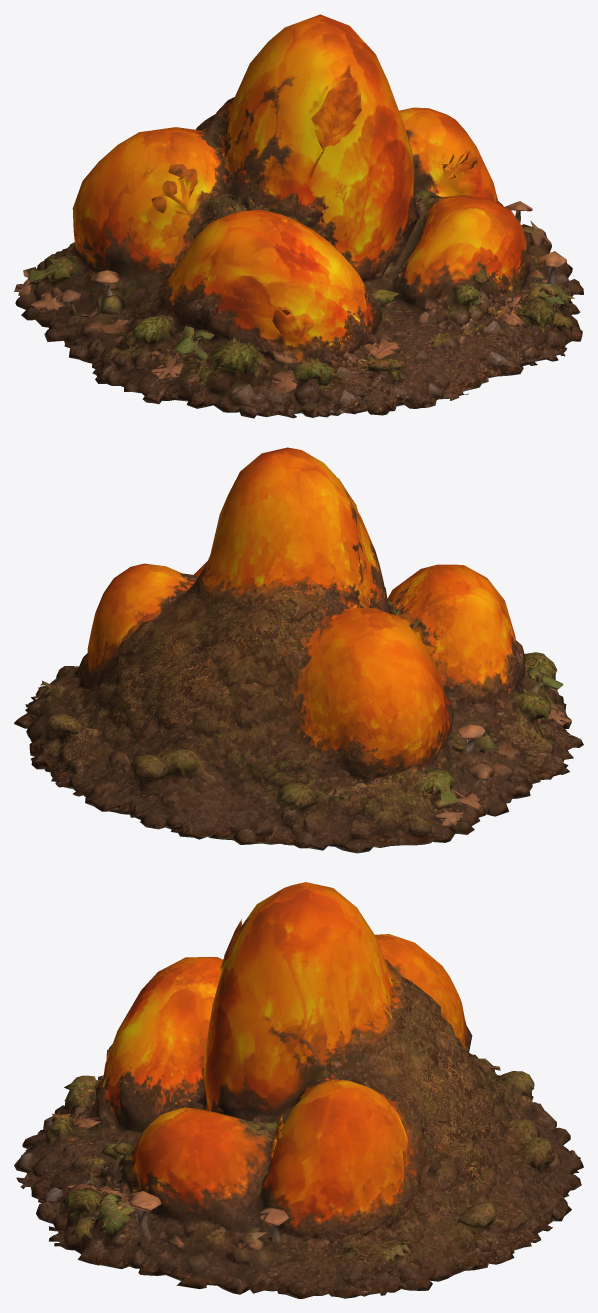
3 views of the same model, one above another, from view 1: azimuth 30°, elevation 25°; view 2: azimuth 150°, elevation 25°; view 3: azimuth 270°, elevation 25° (orthographic). The views are drawn at different scales.
Visible parts, largest first — view 1: amber_deposit_painted; view 2: amber_deposit_painted; view 3: amber_deposit_painted.
Boxes of the visible parts, left/top/right/bottom form: amber_deposit_painted: left=14, top=14, right=583, bottom=418; amber_deposit_painted: left=14, top=447, right=583, bottom=853; amber_deposit_painted: left=14, top=882, right=583, bottom=1298.
Size of the model in its own units: 6.6 by 3.67 by 6.42.
1 material, 1 textured.
